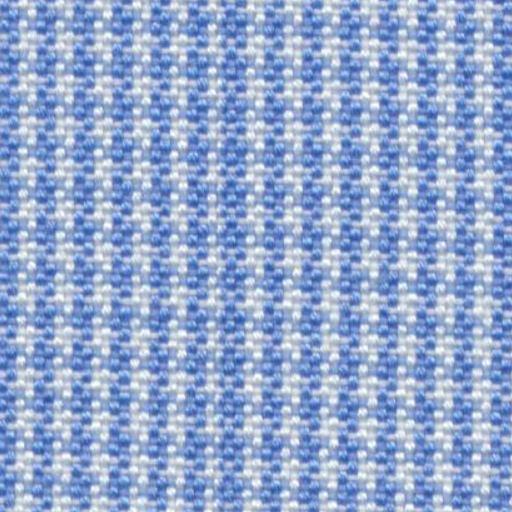TuoSha: (176, 7, 280, 488)
